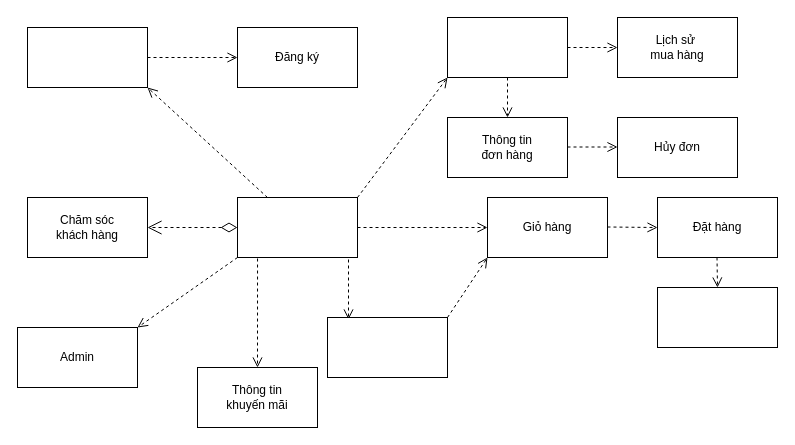
This 795x445 diagram has some shape labels left out. Here are the shapes that lost their labels. From the top down, the centre of each, then its label:
the point at 87,57: Đăng nhập
the point at 507,47: Thông tin cá nhân
the point at 297,227: Trang chủ
the point at 717,317: Thanh toán
the point at 387,347: Thông tin sản phẩm
